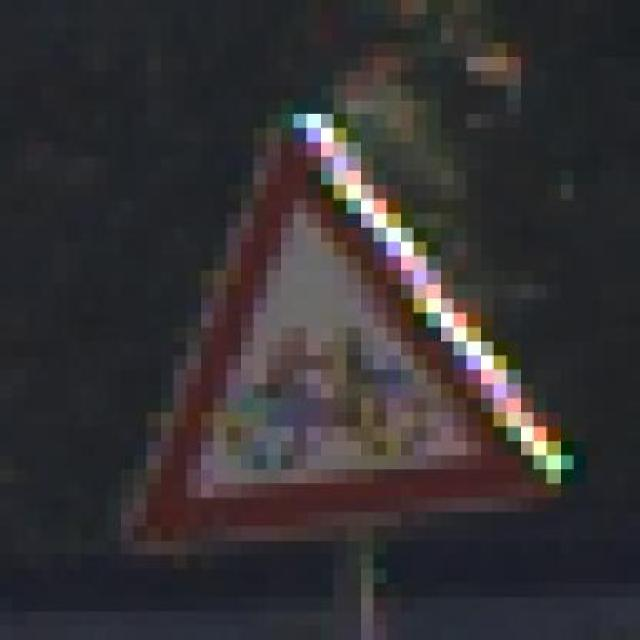CYCLE ROUTE AHEAD WARNING: (106, 85, 574, 569)
